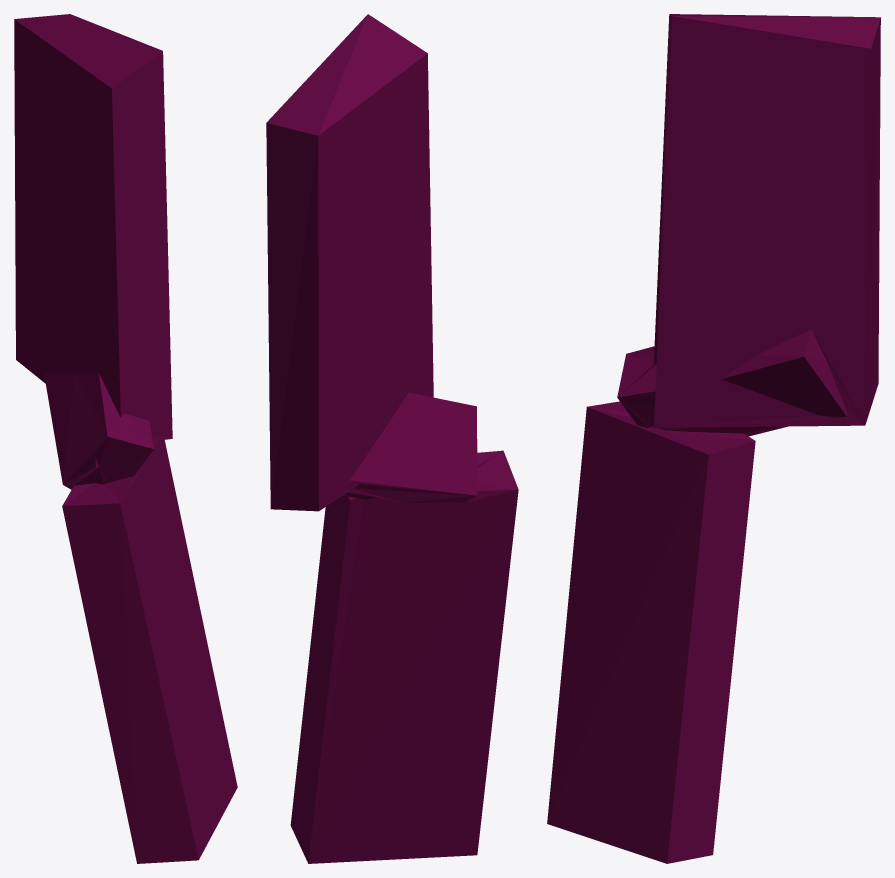
The picture shows the model from 3 angles, left to right: view 1: azimuth 30°, elevation 25°; view 2: azimuth 150°, elevation 25°; view 3: azimuth 270°, elevation 25°; orthographic projection. The views are drawn at different scales.
Parts seen in each view (by area): view 1: 907_Cube.3660; view 2: 907_Cube.3660; view 3: 907_Cube.3660.
Part boxes in pixels (bbox=[...]): 907_Cube.3660: bbox=[14, 14, 237, 863]; 907_Cube.3660: bbox=[266, 14, 518, 863]; 907_Cube.3660: bbox=[547, 14, 880, 863].
Bounding box in the file's own units: 6.56 × 25.35 × 9.24.
